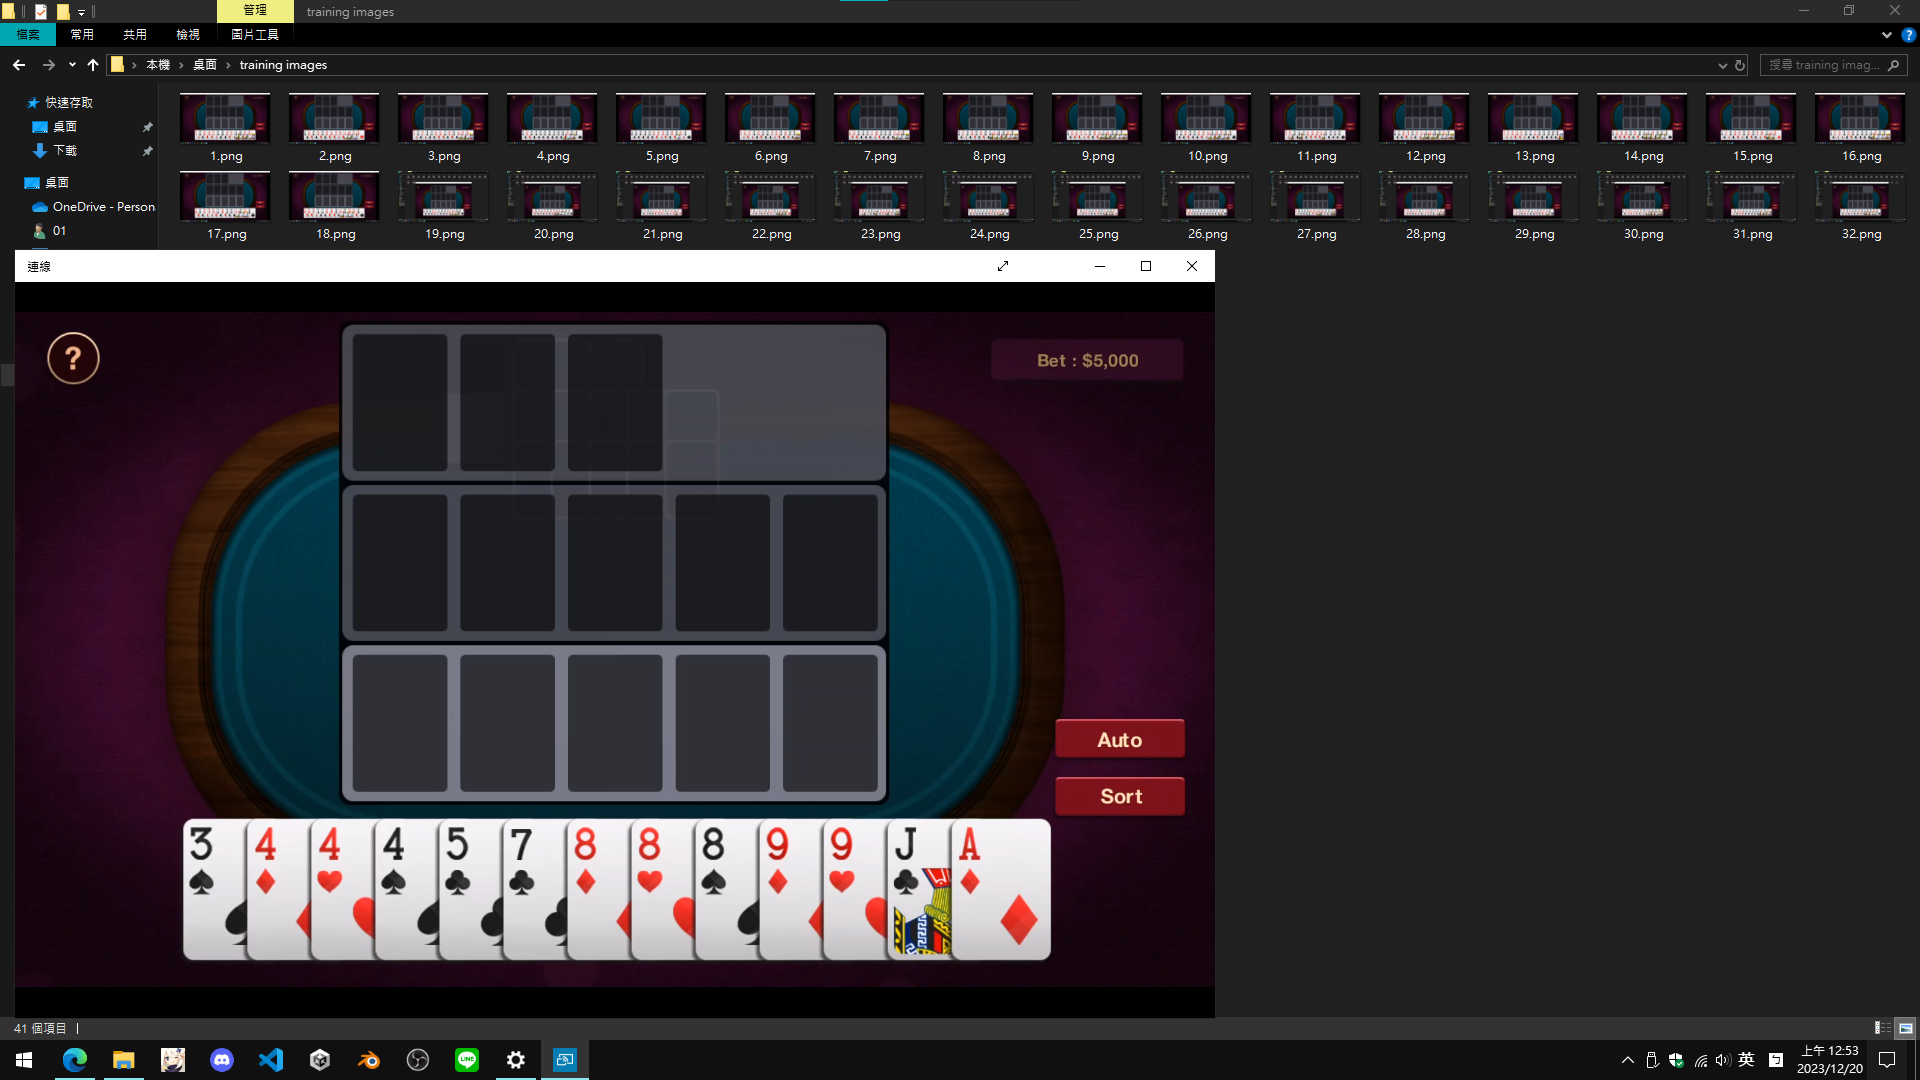3S: (186, 823, 216, 901)
4D: (252, 824, 280, 898)
4H: (314, 824, 345, 895)
4S: (380, 824, 409, 901)
5C: (442, 824, 472, 903)
7C: (508, 824, 538, 901)
8D: (571, 824, 600, 898)
8H: (634, 824, 665, 898)
8S: (699, 824, 728, 903)
9D: (762, 825, 793, 898)
9H: (827, 824, 856, 898)
AD: (957, 824, 985, 898)
JC: (893, 824, 920, 902)
